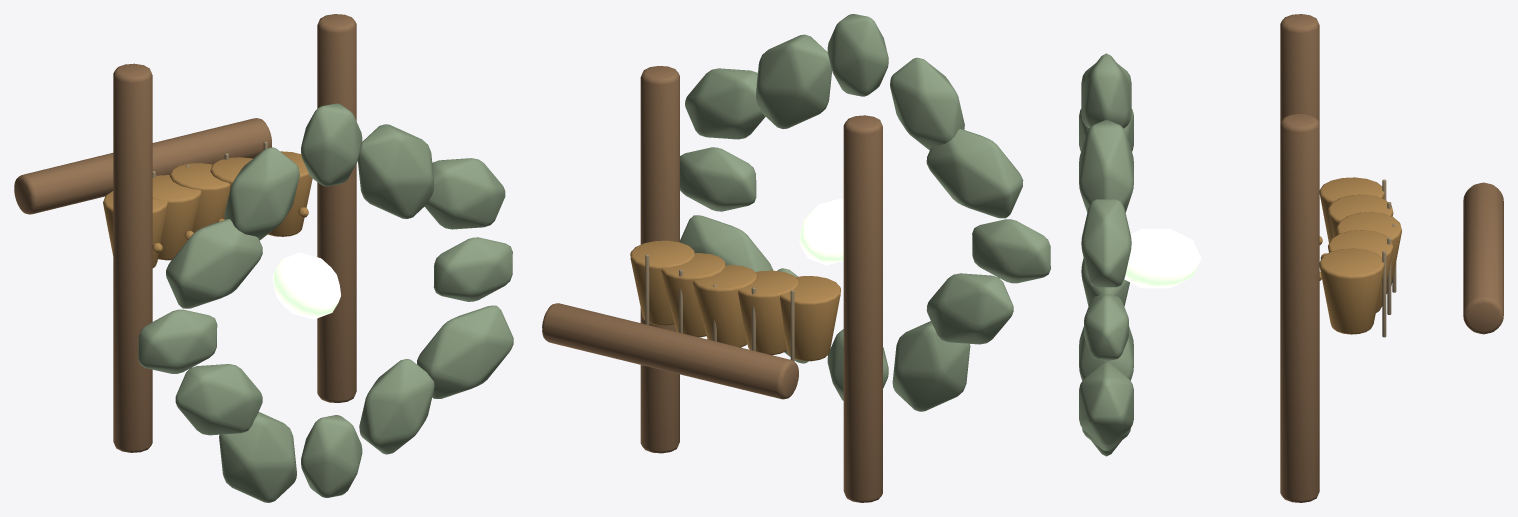
File: wind-shrine.glb
3 renders of one model, left to right at view 1: azimuth 30°, elevation 25°; view 2: azimuth 150°, elevation 25°; view 3: azimuth 270°, elevation 25°, orthographic.
Visible parts, largest first — view 1: Arch_Left, Arch_Right, Arch_Crossbar, RadialStone_11, RadialStone_05, RadialStone_02, RadialStone_08, RadialStone_10, RadialStone_07, RadialStone_04, RadialStone_01, RadialStone_00 (+9 smaller); view 2: Arch_Left, Arch_Crossbar, Arch_Right, RadialStone_05, RadialStone_02, RadialStone_08, RadialStone_07, RadialStone_04, RadialStone_01, RadialStone_06, RadialStone_00, Bell_00 (+8 smaller); view 3: Arch_Right, Arch_Crossbar, Bell_04, Arch_Left, RadialStone_02, Mosslight_Core, RadialStone_01, RadialStone_11, RadialStone_03, RadialStone_00, Bell_02, Bell_03 (+4 smaller).
Part boxes in pixels (x1=…): Arch_Left: x1=113, y1=63, x2=152, y2=452; Arch_Right: x1=317, y1=14, x2=356, y2=402; Arch_Crossbar: x1=14, y1=118, x2=271, y2=214; RadialStone_11: x1=417, y1=305, x2=513, y2=398; RadialStone_05: x1=166, y1=219, x2=262, y2=308; RadialStone_02: x1=357, y1=124, x2=434, y2=218; RadialStone_08: x1=219, y1=412, x2=296, y2=502; RadialStone_10: x1=359, y1=359, x2=434, y2=454; RadialStone_07: x1=175, y1=364, x2=262, y2=435; RadialStone_04: x1=224, y1=147, x2=299, y2=240; RadialStone_01: x1=424, y1=158, x2=505, y2=229; RadialStone_00: x1=433, y1=237, x2=512, y2=301; Arch_Left: x1=843, y1=115, x2=882, y2=502; Arch_Crossbar: x1=542, y1=303, x2=798, y2=399; Arch_Right: x1=640, y1=66, x2=679, y2=453; RadialStone_05: x1=926, y1=129, x2=1023, y2=218; RadialStone_02: x1=756, y1=34, x2=831, y2=129; RadialStone_08: x1=892, y1=321, x2=970, y2=411; RadialStone_07: x1=926, y1=273, x2=1013, y2=344; RadialStone_04: x1=890, y1=57, x2=964, y2=150; RadialStone_01: x1=685, y1=68, x2=765, y2=139; RadialStone_06: x1=972, y1=219, x2=1050, y2=283; RadialStone_00: x1=680, y1=147, x2=756, y2=211; Bell_00: x1=780, y1=276, x2=840, y2=361; Arch_Right: x1=1280, y1=113, x2=1319, y2=502; Arch_Crossbar: x1=1463, y1=182, x2=1503, y2=334; Bell_04: x1=1319, y1=248, x2=1384, y2=334; Arch_Left: x1=1280, y1=14, x2=1319, y2=124; RadialStone_02: x1=1079, y1=120, x2=1133, y2=212; Mosslight_Core: x1=1124, y1=228, x2=1201, y2=288; RadialStone_01: x1=1081, y1=199, x2=1131, y2=287; RadialStone_11: x1=1079, y1=362, x2=1133, y2=446; RadialStone_03: x1=1084, y1=53, x2=1128, y2=127; RadialStone_00: x1=1084, y1=294, x2=1128, y2=361; Bell_02: x1=1336, y1=212, x2=1401, y2=293; Bell_03: x1=1328, y1=230, x2=1393, y2=312.
Bounding box in the file's own units: 3.48 × 3.5 × 3.43.
